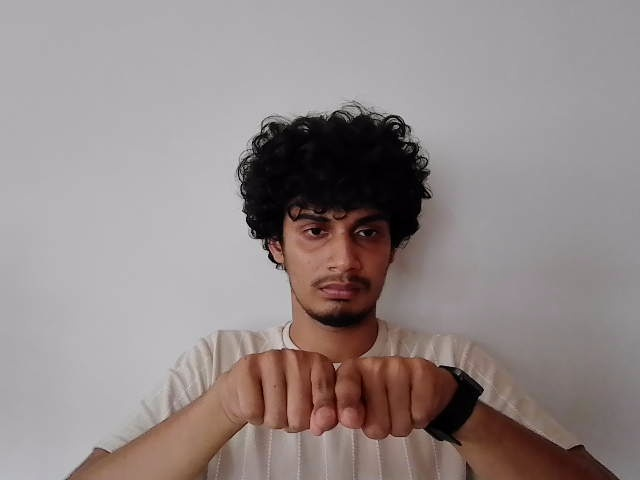same: (230, 348, 443, 440)
